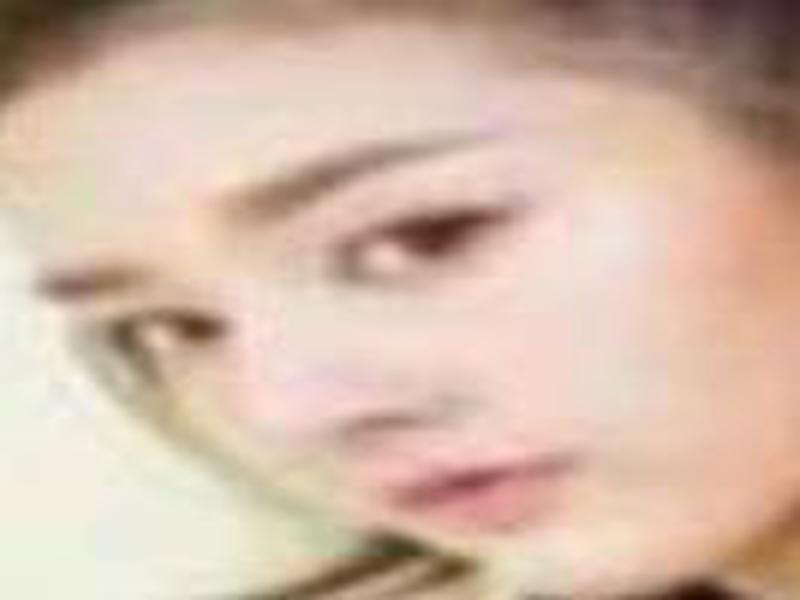without_mask: (6, 33, 791, 587)
